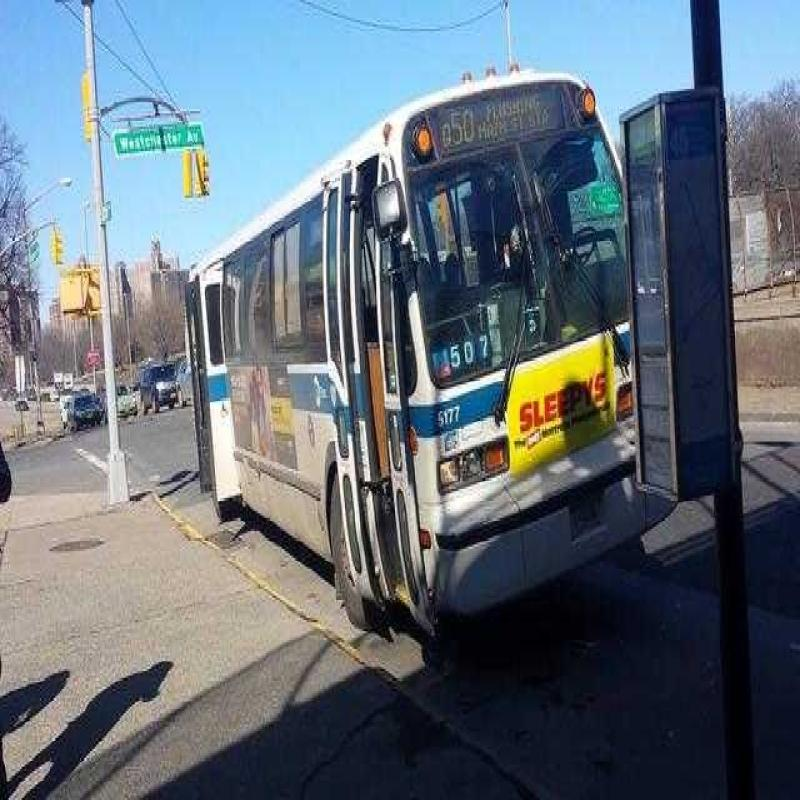bus: (171, 57, 675, 668)
